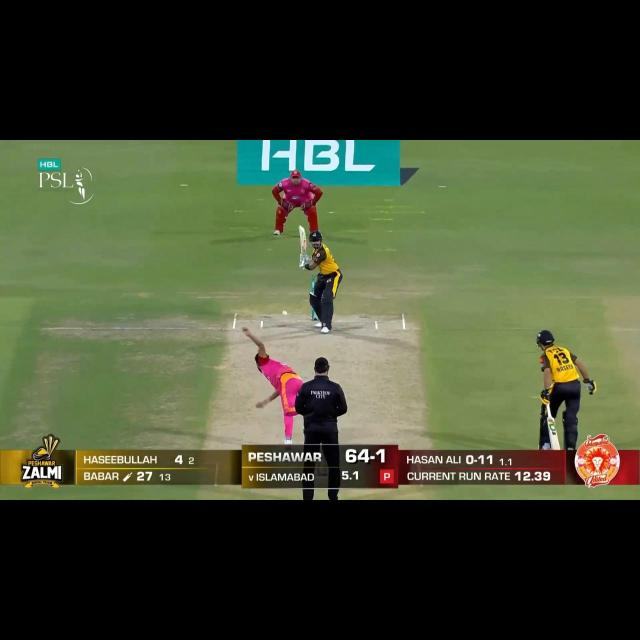bat: (546, 419, 564, 450), (296, 225, 308, 252)
toe: (548, 442, 563, 451), (296, 226, 310, 233)
